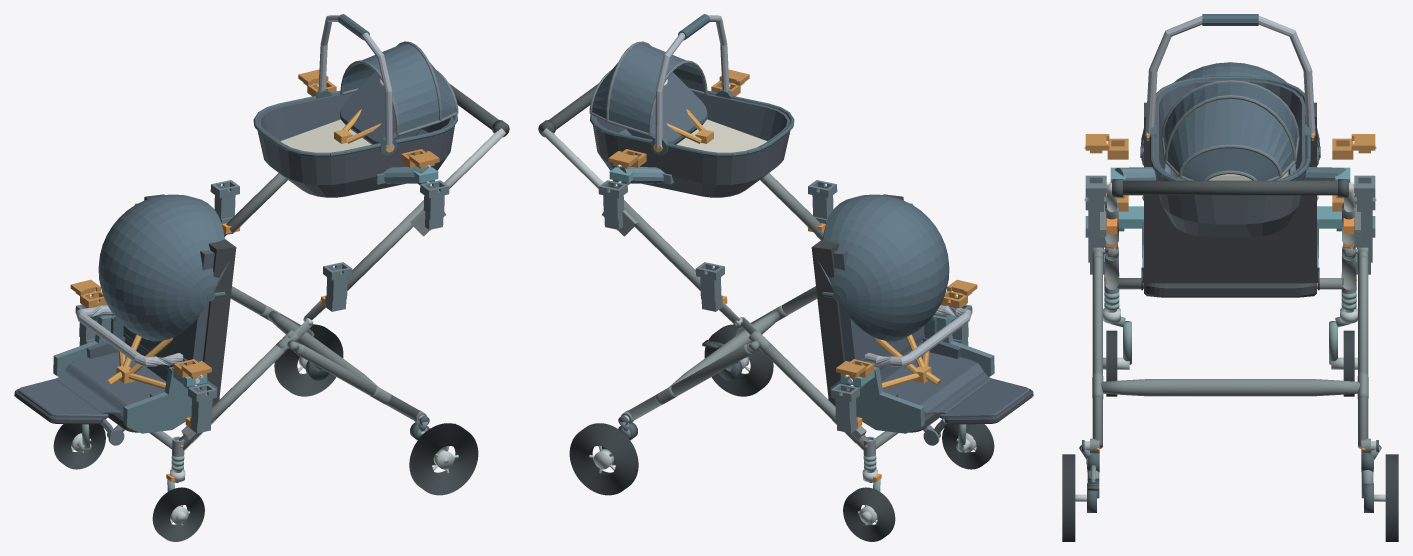
Rendered from D06_w650_state1_wheel_S.glb.
3 renders of one model, left to right at view 1: azimuth 30°, elevation 25°; view 2: azimuth 150°, elevation 25°; view 3: azimuth 270°, elevation 25°, orthographic. The views are drawn at different scales.
Parts seen in each view (by area): view 1: D06_Lower, D06_Upper, D06_Lower_Mount_L, RL_tire.008, RR_tire.008, FL_tire.008, FR_tire.008, V46_rear_leg_-1.009, main_lower_-1.009, main_upper_-1.009, V46_rearbar.009, Universal_Cabin_Receiver_M_-1 (+8 smaller); view 2: D06_Lower, D06_Upper, D06_Lower_Mount_L, RR_tire.008, FR_tire.008, RL_tire.008, FL_tire.008, V46_rear_leg_1.009, main_lower_1.009, main_upper_1.009, V46_rearbar.009, Universal_Cabin_Receiver_M_1 (+8 smaller); view 3: D06_Upper, D06_Lower, V46_rearbar.009, round_handle.008, V46_rear_leg_1.009, V46_rear_leg_-1.009, D06_Upper_Mount_H, D06_Lower_Mount_L, RL_tire.008, RR_tire.008, Universal_Cabin_Receiver_H_1, Universal_Cabin_Receiver_H_-1 (+7 smaller).
Part boxes in pixels (x1,y1,x2,y2): D06_Lower: [14, 194, 236, 445]; D06_Upper: [253, 14, 458, 197]; D06_Lower_Mount_L: [53, 305, 217, 433]; RL_tire.008: [409, 423, 478, 495]; RR_tire.008: [274, 324, 343, 396]; FL_tire.008: [152, 487, 204, 541]; FR_tire.008: [53, 424, 105, 469]; V46_rear_leg_-1.009: [296, 344, 420, 420]; main_lower_-1.009: [179, 345, 287, 450]; main_upper_-1.009: [347, 200, 423, 290]; V46_rearbar.009: [268, 311, 378, 386]; Universal_Cabin_Receiver_M_-1: [323, 262, 352, 311]; D06_Lower: [811, 194, 1033, 445]; D06_Upper: [589, 14, 794, 197]; D06_Lower_Mount_L: [830, 305, 994, 433]; RR_tire.008: [569, 423, 638, 495]; FR_tire.008: [843, 487, 895, 541]; RL_tire.008: [704, 324, 773, 396]; FL_tire.008: [942, 424, 994, 469]; V46_rear_leg_1.009: [627, 344, 751, 420]; main_lower_1.009: [760, 345, 868, 450]; main_upper_1.009: [624, 200, 700, 290]; V46_rearbar.009: [669, 311, 779, 386]; Universal_Cabin_Receiver_M_1: [695, 262, 724, 311]; D06_Upper: [1145, 14, 1315, 236]; D06_Lower: [1140, 62, 1320, 297]; V46_rearbar.009: [1101, 379, 1359, 396]; round_handle.008: [1112, 180, 1348, 195]; V46_rear_leg_1.009: [1358, 255, 1368, 448]; V46_rear_leg_-1.009: [1092, 255, 1102, 448]; D06_Upper_Mount_H: [1106, 164, 1354, 185]; D06_Lower_Mount_L: [1119, 206, 1341, 282]; RL_tire.008: [1062, 454, 1075, 541]; RR_tire.008: [1385, 454, 1398, 541]; Universal_Cabin_Receiver_H_1: [1354, 175, 1375, 234]; Universal_Cabin_Receiver_H_-1: [1085, 175, 1106, 234].
Size of the model in its own units: 1.35 by 1.28 by 0.766.
